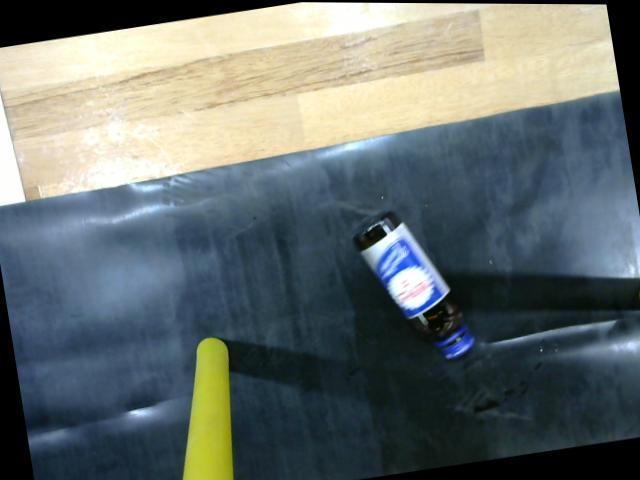glass: (340, 202, 485, 374)
